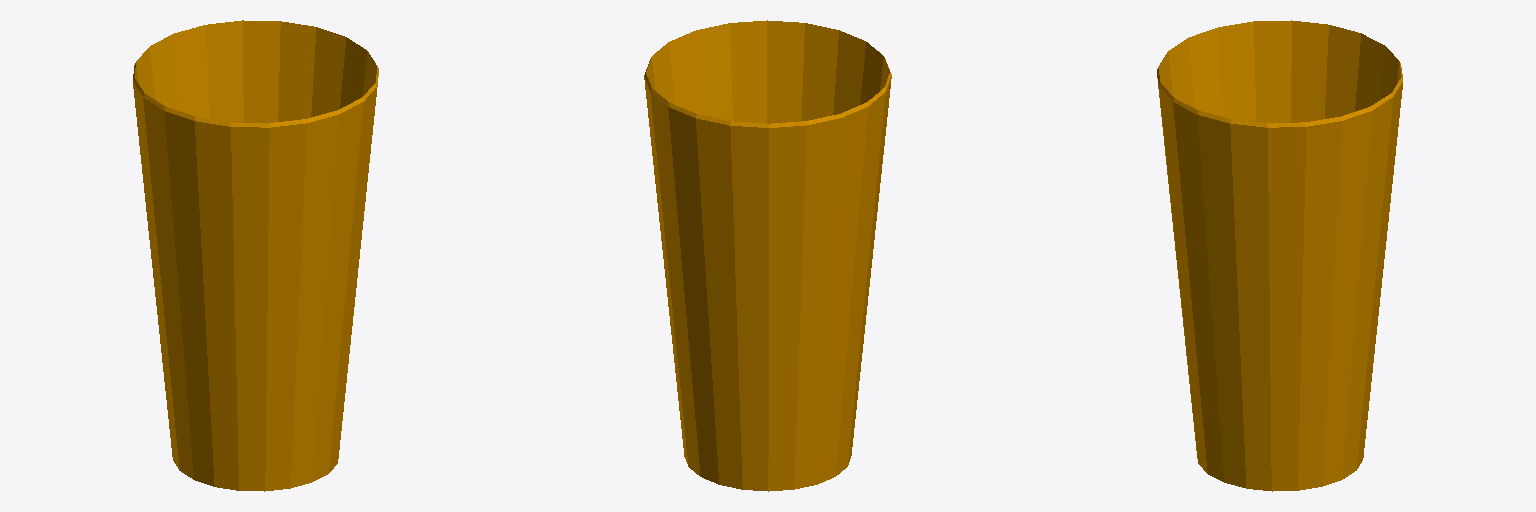
URDF robot description (glass):
<robot name="glass">
    <link name="base_link">
        <visual>
            <geometry>
                <mesh filename="glass.stl"/>
            </geometry>
        </visual>
        <collision>
            <geometry>
                <mesh filename="glass.stl"/>
            </geometry>
        </collision>
    </link>
</robot>

--- Facts derived from the render (not from the file) ---
The picture shows the robot from 3 angles, left to right: view 1: azimuth 30°, elevation 25°; view 2: azimuth 150°, elevation 25°; view 3: azimuth 270°, elevation 25°; orthographic projection.
Model glass with 1 links and 0 joints (none), rooted at base_link, posed every joint at zero.
Links seen in each view (by area): view 1: base_link; view 2: base_link; view 3: base_link.
Link boxes in pixels (left/top/right/bottom): base_link: left=133, top=20, right=378, bottom=491; base_link: left=644, top=20, right=891, bottom=491; base_link: left=1157, top=20, right=1402, bottom=491.
Bounding box of the posed robot: 0.0927 × 0.0927 × 0.1593 m (x, y, z).
Meshes: 1 distinct files referenced, 1 mesh visuals loaded (1 binary STL).